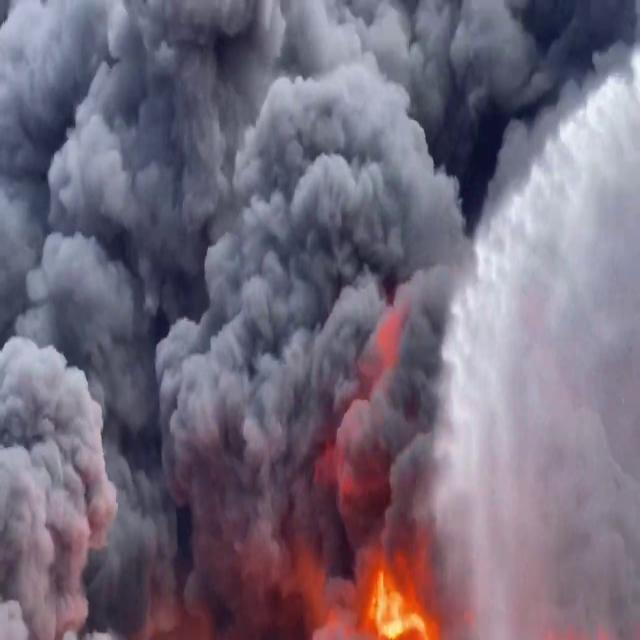Fire: (325, 539, 454, 640)
Smoke: (0, 0, 639, 609)
